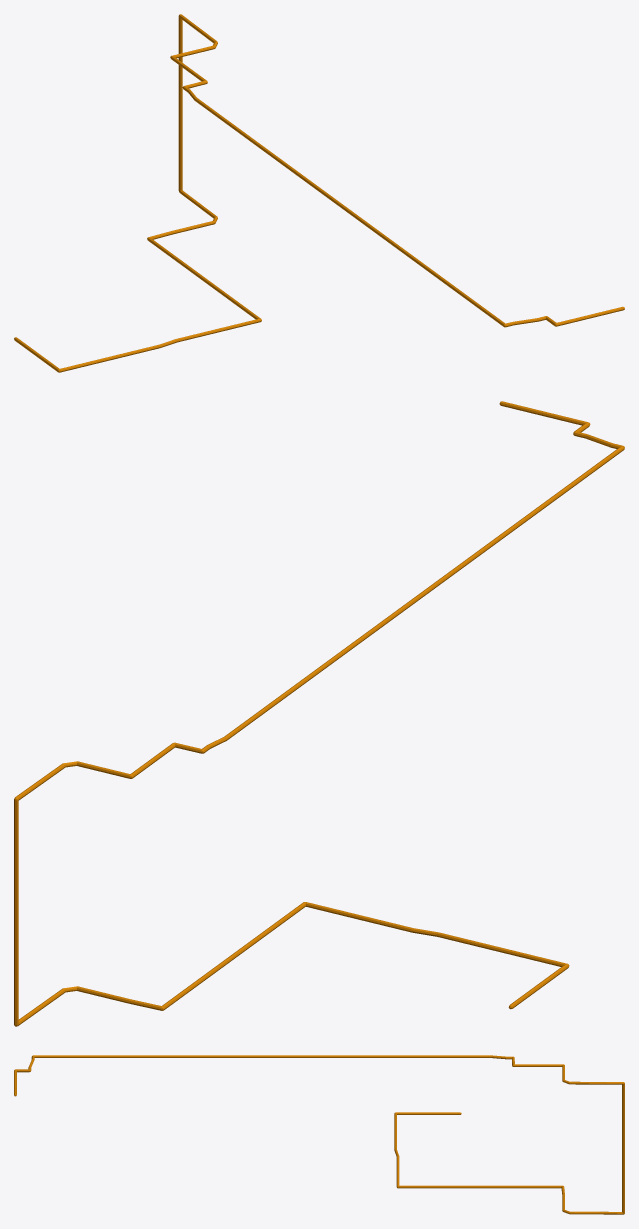
The picture shows the model from 3 angles, top to bottom: view 1: azimuth 30°, elevation 25°; view 2: azimuth 150°, elevation 25°; view 3: azimuth 270°, elevation 25°; orthographic projection. The views are drawn at different scales.
Size of the model in its own units: 1855 by 1020 by 4265.
